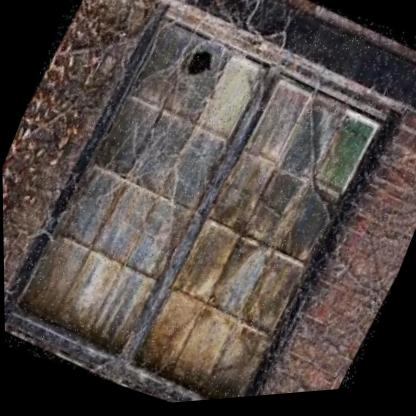Window: (0, 0, 414, 416)
